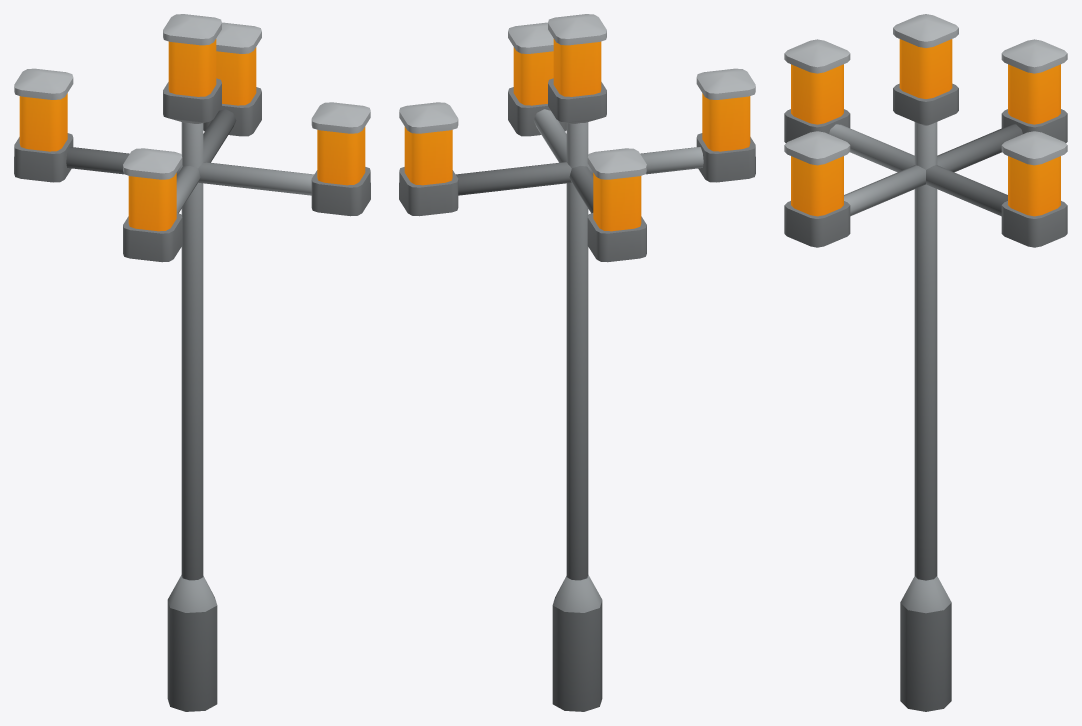
File: city2-lamp-04.glb
The picture shows the model from 3 angles, left to right: view 1: azimuth 30°, elevation 25°; view 2: azimuth 150°, elevation 25°; view 3: azimuth 270°, elevation 25°; orthographic projection.
Parts seen in each view (by area): view 1: Lamp_04; view 2: Lamp_04; view 3: Lamp_04.
Boxes of the visible parts, <box> form: Lamp_04: <box>14,14,370,711</box>; Lamp_04: <box>399,14,755,711</box>; Lamp_04: <box>784,14,1067,711</box>.
Size of the model in its own units: 1.74 by 4.63 by 1.74.
2 materials, 2 textured.
